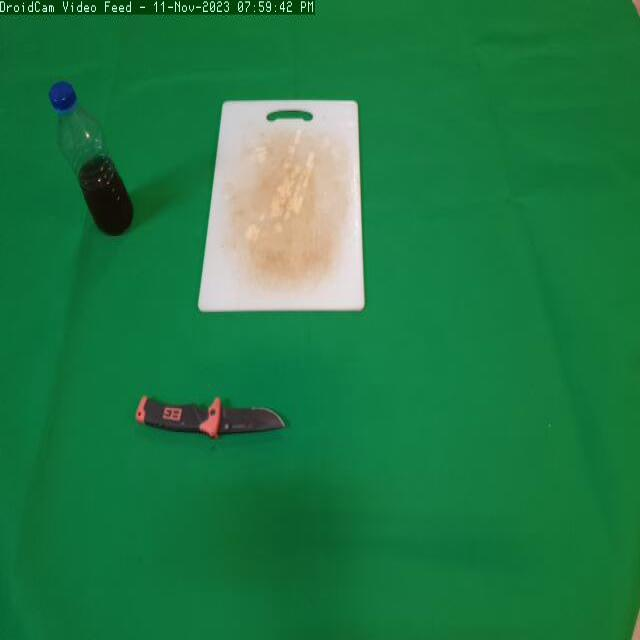cutting board: (200, 97, 378, 333)
fullbottle: (44, 68, 140, 245)
knife: (129, 387, 294, 458)
